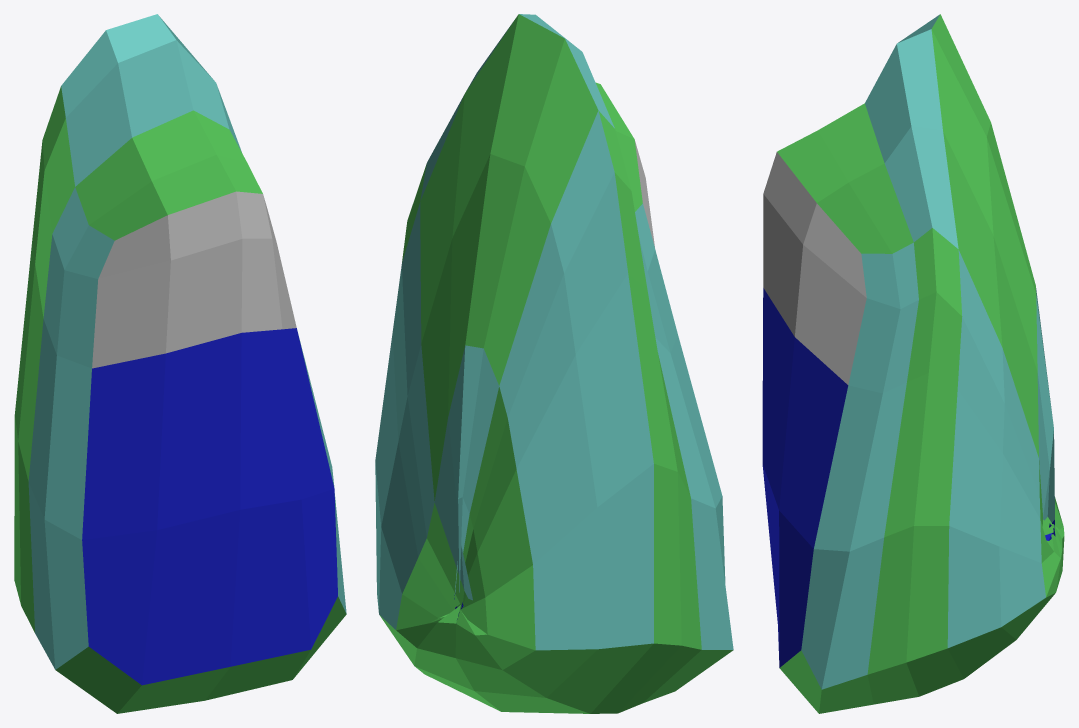
Rendered from player.gltf.
The picture shows the model from 3 angles, left to right: view 1: azimuth 30°, elevation 25°; view 2: azimuth 150°, elevation 25°; view 3: azimuth 270°, elevation 25°; orthographic projection. The views are drawn at different scales.
Visible parts, largest first — view 1: Cube; view 2: Cube; view 3: Cube.
Part boxes in pixels (x1=…): Cube: x1=14, y1=14, x2=346, y2=713; Cube: x1=375, y1=14, x2=733, y2=713; Cube: x1=762, y1=14, x2=1064, y2=713.
Bounding box in the file's own units: 0.8041 × 1.75 × 0.7371.
